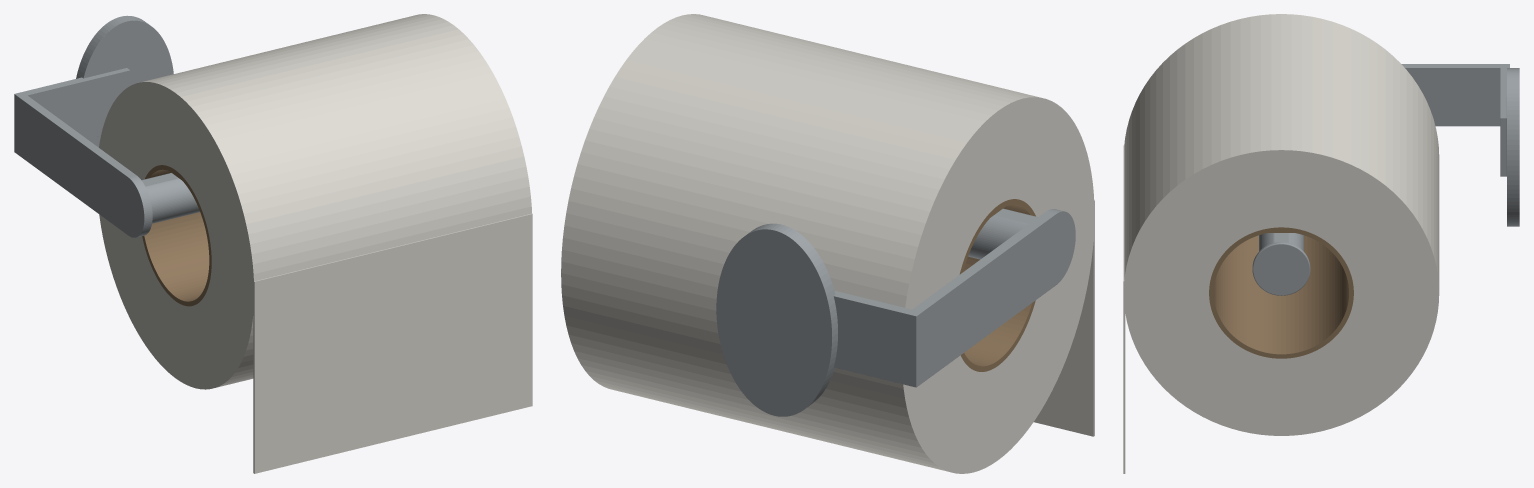
The picture shows the model from 3 angles, left to right: view 1: azimuth 30°, elevation 25°; view 2: azimuth 150°, elevation 25°; view 3: azimuth 270°, elevation 25°; orthographic projection. The views are drawn at different scales.
Parts seen in each view (by area): view 1: Paper_roll_and_connected_short_end, Holder_connected_metal, Hollow_cardboard_core; view 2: Paper_roll_and_connected_short_end, Holder_connected_metal, Hollow_cardboard_core; view 3: Paper_roll_and_connected_short_end, Hollow_cardboard_core, Holder_connected_metal.
Boxes of the visible parts, x1,y1,x2,y2 form: Paper_roll_and_connected_short_end: [99, 14, 532, 473]; Holder_connected_metal: [14, 15, 199, 237]; Hollow_cardboard_core: [142, 165, 211, 306]; Paper_roll_and_connected_short_end: [561, 14, 1094, 473]; Holder_connected_metal: [716, 208, 1075, 416]; Hollow_cardboard_core: [959, 199, 1035, 371]; Paper_roll_and_connected_short_end: [1123, 14, 1439, 473]; Hollow_cardboard_core: [1209, 227, 1353, 358]; Holder_connected_metal: [1252, 64, 1519, 295].
Bounding box in the file's own units: 0.13 × 0.111 × 0.1231.
